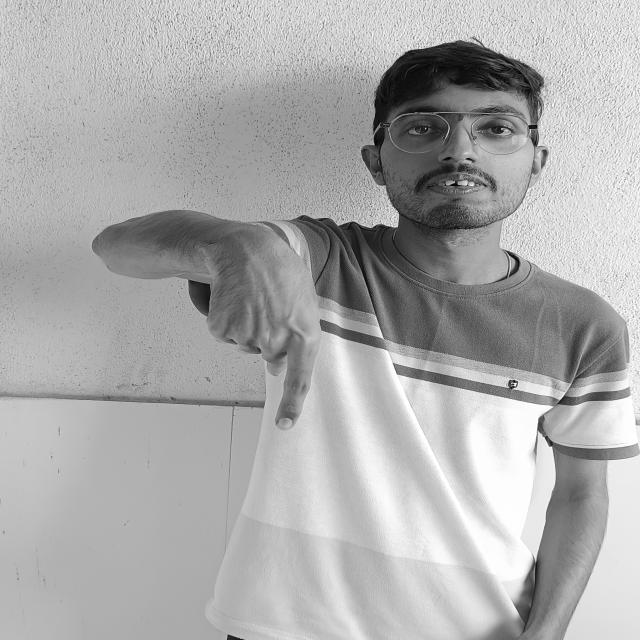Now: (66, 200, 364, 445)
